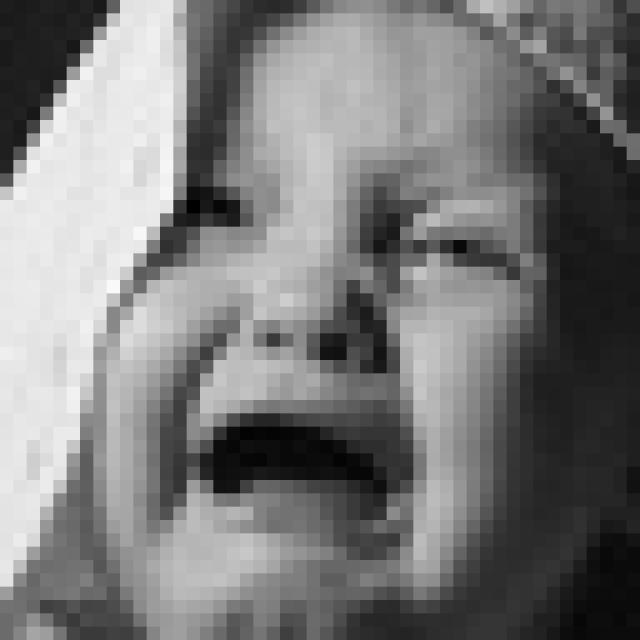sad: (133, 118, 557, 581)
